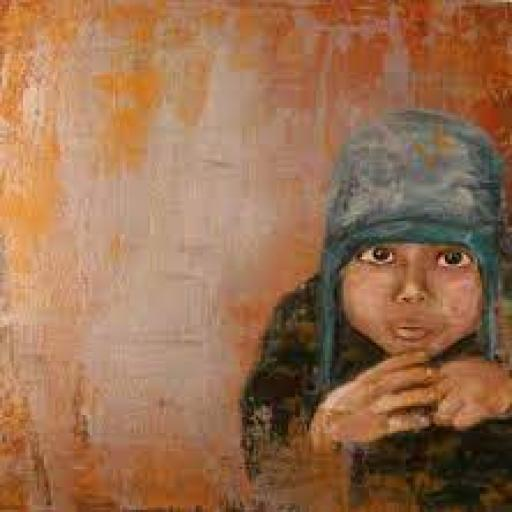person: (232, 104, 512, 512)
